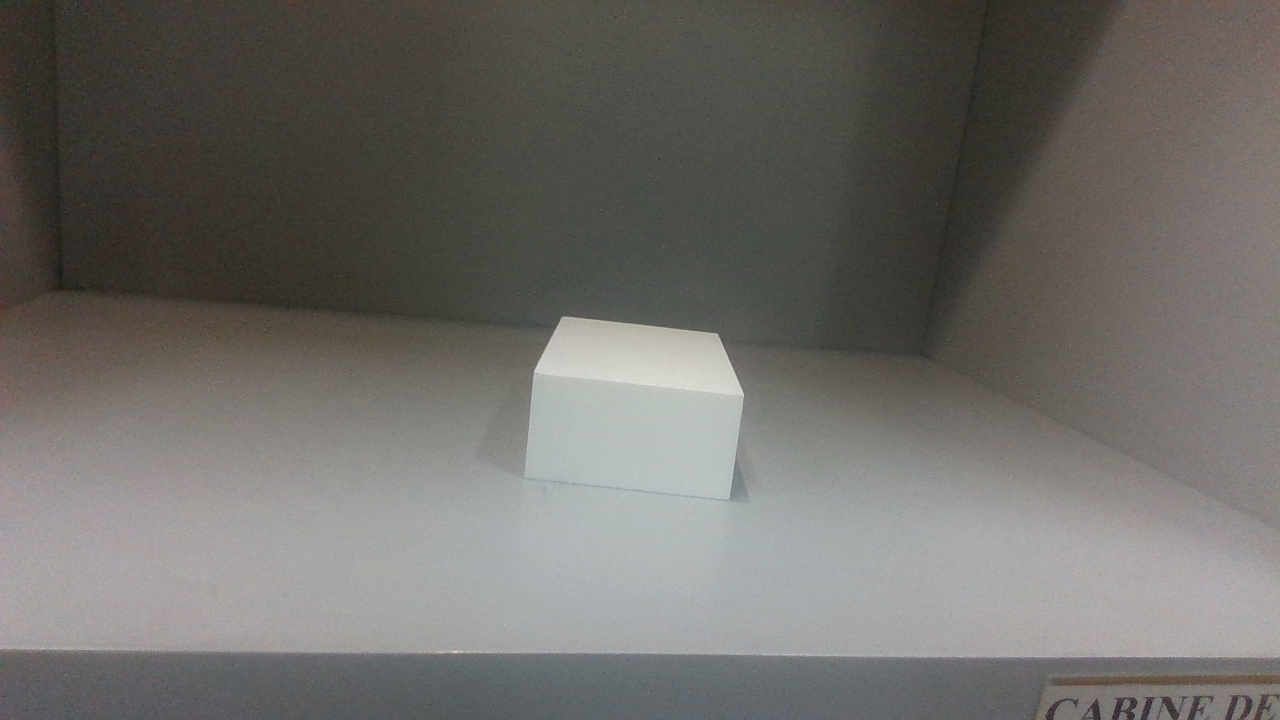Retangulo: (525, 316, 743, 497)
